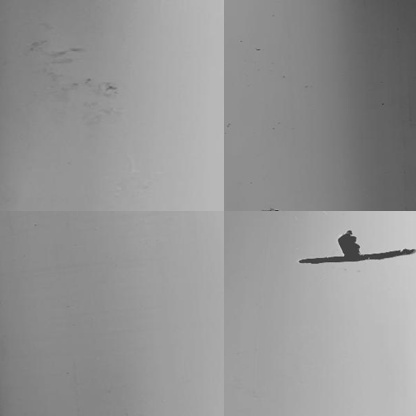fengxi: (297, 249, 416, 270)
kongdong: (332, 228, 358, 253)
